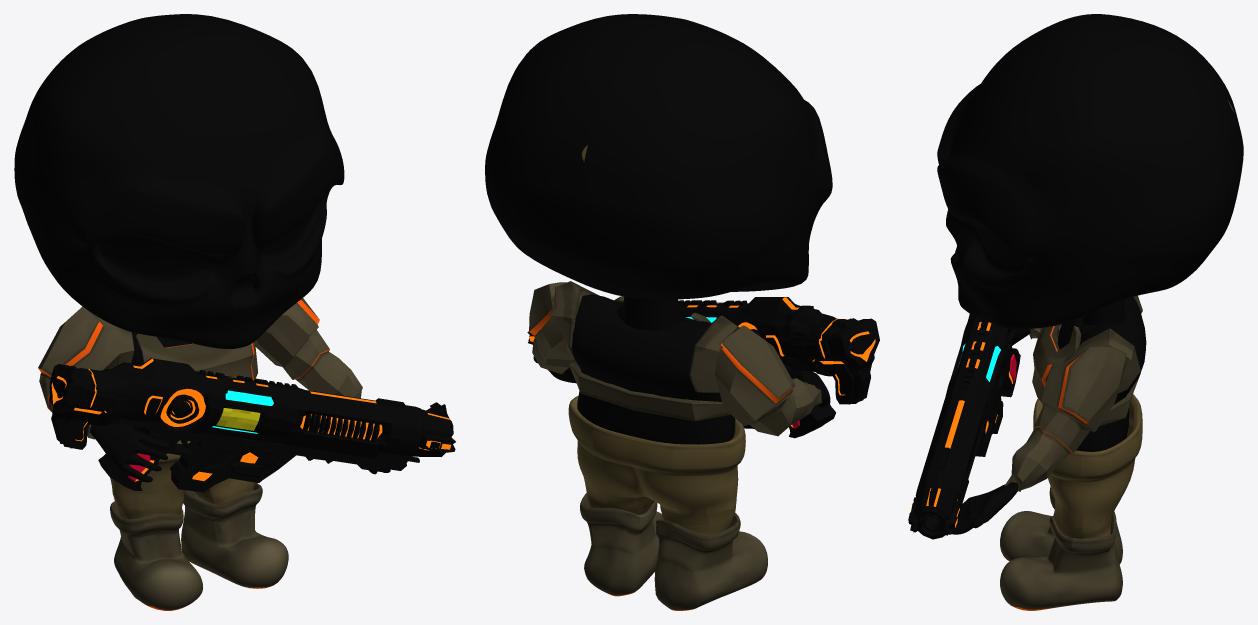
File: craneoconarmaIDLE.fbx
3 views of the same model, side by side, from view 1: azimuth 30°, elevation 25°; view 2: azimuth 150°, elevation 25°; view 3: azimuth 270°, elevation 25° (orthographic). The views are drawn at different scales.
Parts seen in each view (by area): view 1: cabeza3, arma, bota, polySurface4, pantalon, polySurface3.001, polySurface5; view 2: cabeza3, polySurface5.001, bota, pantalon, polySurface4, arma, polySurface3.001, polySurface5; view 3: cabeza3, arma, polySurface4, bota, pantalon, polySurface5.001, polySurface3.001, polySurface5.
Part boxes in pixels (<box>): cabeza3: <box>14,14,344,348</box>; arma: <box>49,358,455,492</box>; bota: <box>110,482,288,610</box>; polySurface4: <box>38,298,362,439</box>; pantalon: <box>110,440,255,519</box>; polySurface3.001: <box>136,333,257,380</box>; polySurface5: <box>90,423,390,482</box>; cabeza3: <box>485,14,832,330</box>; polySurface5.001: <box>572,294,735,444</box>; bota: <box>580,493,767,610</box>; pantalon: <box>568,396,745,535</box>; polySurface4: <box>529,281,821,436</box>; arma: <box>527,297,879,438</box>; polySurface3.001: <box>569,296,730,421</box>; polySurface5: <box>533,356,830,407</box>; cabeza3: <box>937,14,1243,329</box>; arma: <box>908,314,1020,539</box>; polySurface4: <box>1004,295,1142,491</box>; bota: <box>1000,486,1122,610</box>; pantalon: <box>1033,394,1142,538</box>; polySurface5.001: <box>1057,297,1146,451</box>; polySurface3.001: <box>1032,324,1140,426</box>; polySurface5: <box>951,329,1030,534</box>.
Bounding box in the file's own units: 69.76 × 101 × 55.58.
